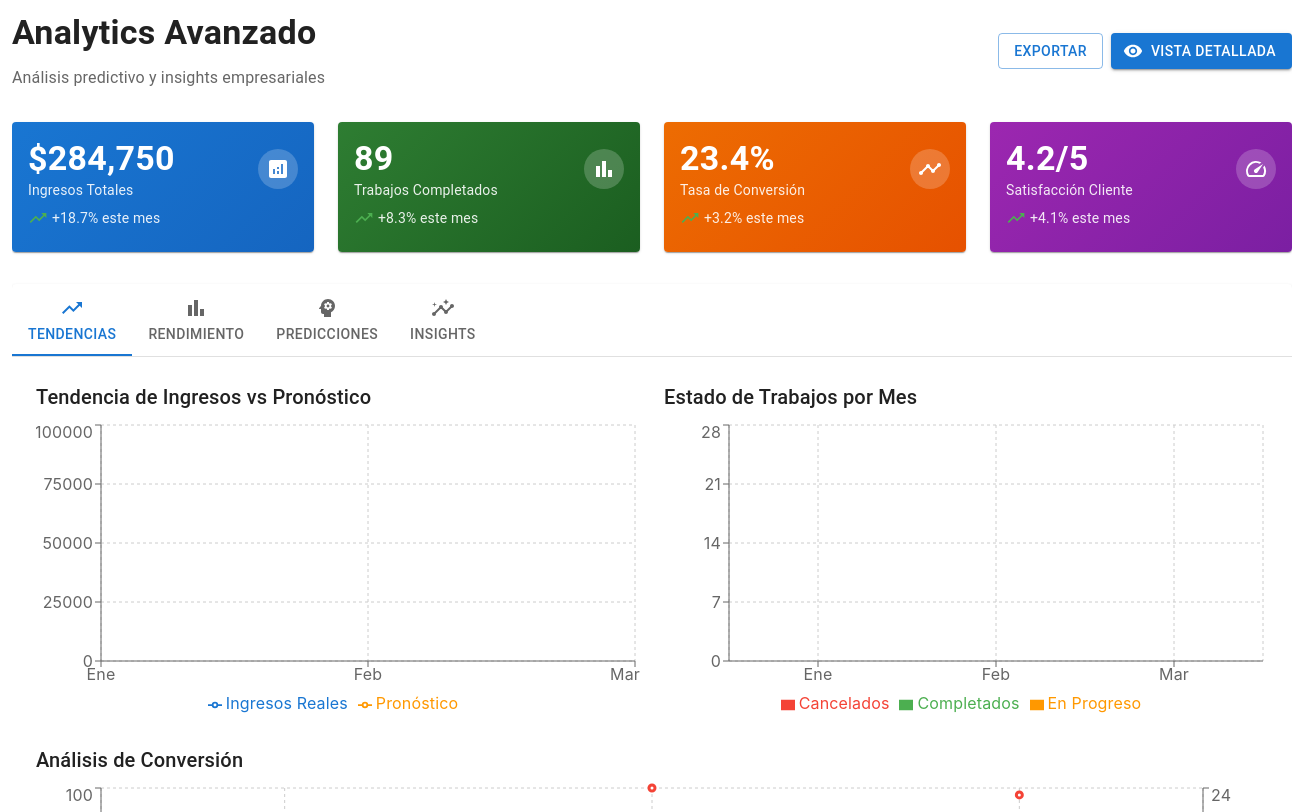
Test: AdvancedAnalytics Component › displays predictions correctly
# Switch to Predicciones tab
Click the tab "Predicciones".
click(327, 320)  # box [260,284,394,356]
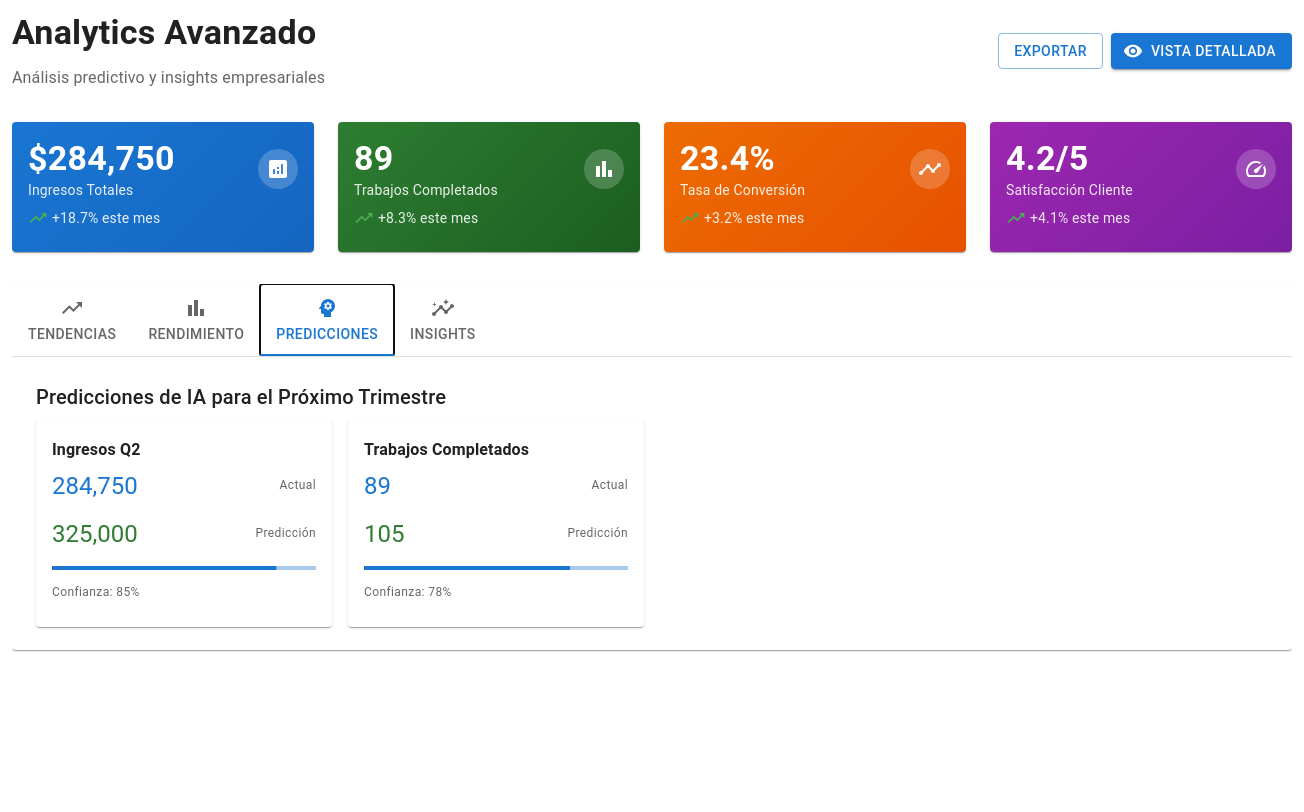
Check: the heading "Ingresos Q2" is shown, box [52,440,140,459]
Check: the heading "284,750" is shown, box [52,470,138,502]
Check: the heading "325,000" is shown, box [52,518,138,550]
